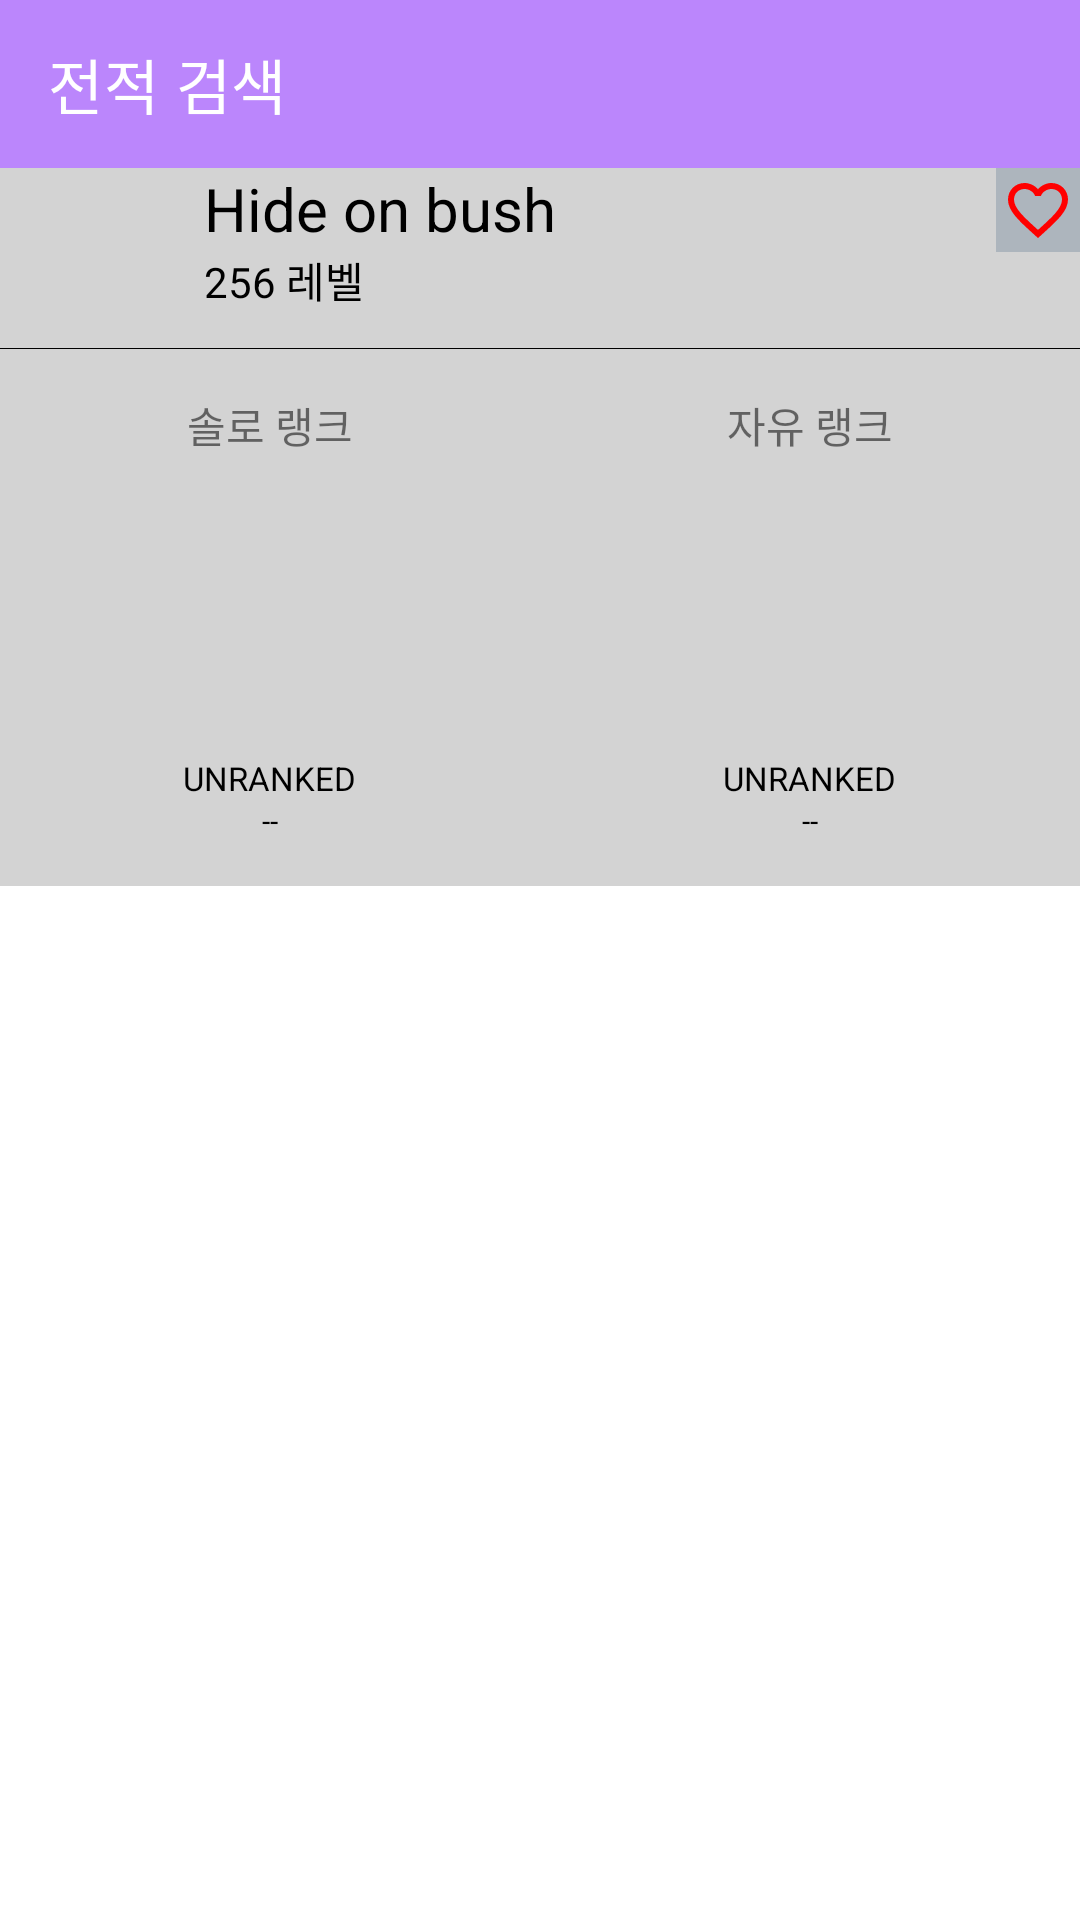

Icons on this 1080px x 1920px Android screen, each with the point to tap as (x,y):
favorite border: (1038,210)
